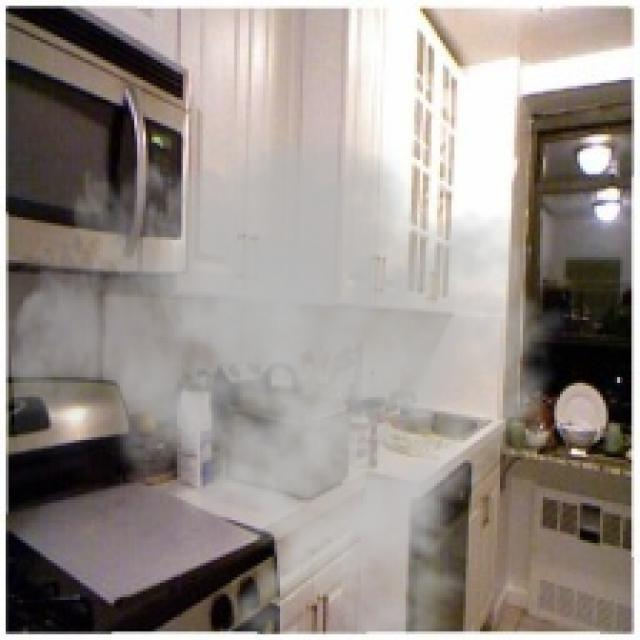Smoke: (9, 89, 572, 632)
